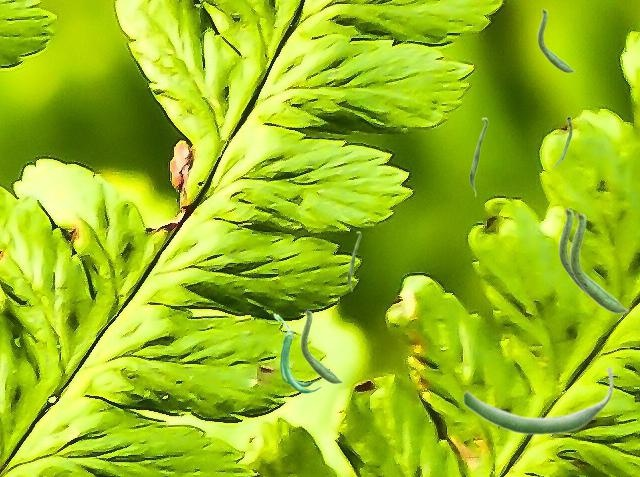french_bean: (462, 368, 613, 435), (569, 211, 628, 313), (273, 313, 320, 392), (300, 309, 342, 383), (537, 8, 574, 72), (558, 207, 585, 294), (469, 117, 487, 196), (551, 116, 571, 166), (347, 231, 360, 291)
